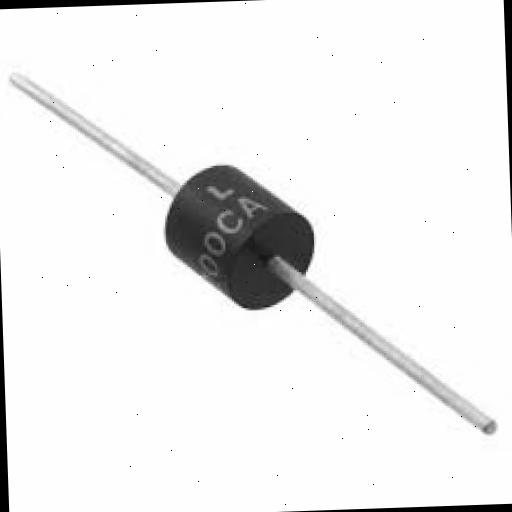DIODE: (5, 48, 498, 452)
